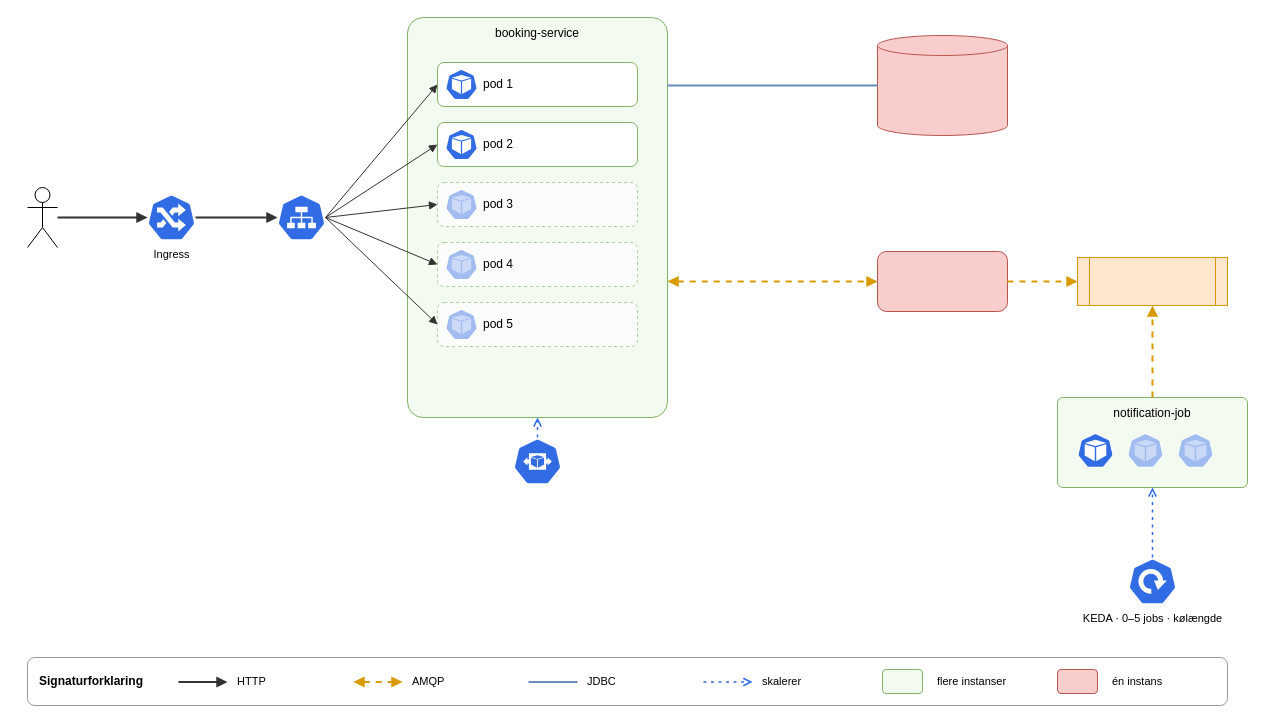
The diagram is 1265 pixels wide and 723 high, and some of its shapes have lost their labels. The shapes that lost their labels are listed below. From the top down, each one's centre as x and y in pixels, then its label:
(x=942, y=85): booking-db
(x=42, y=217): Browsere
(x=942, y=281): rabbitmq
(x=1152, y=281): notifications
(x=537, y=461): HPA · 2–5 pods · CPU 70 %
